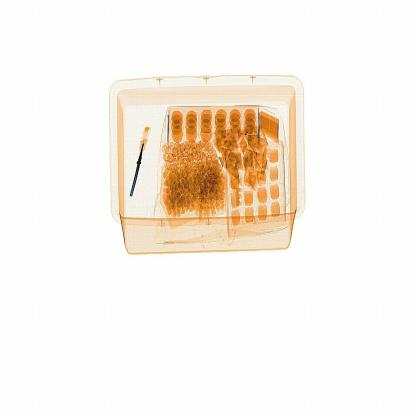gun: (128, 123, 150, 205)
